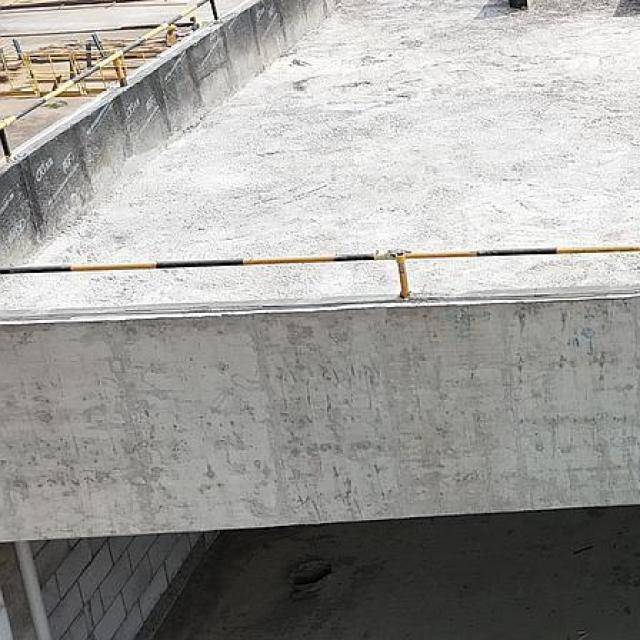Guardrail: (0, 0, 220, 161), (0, 245, 640, 298)
